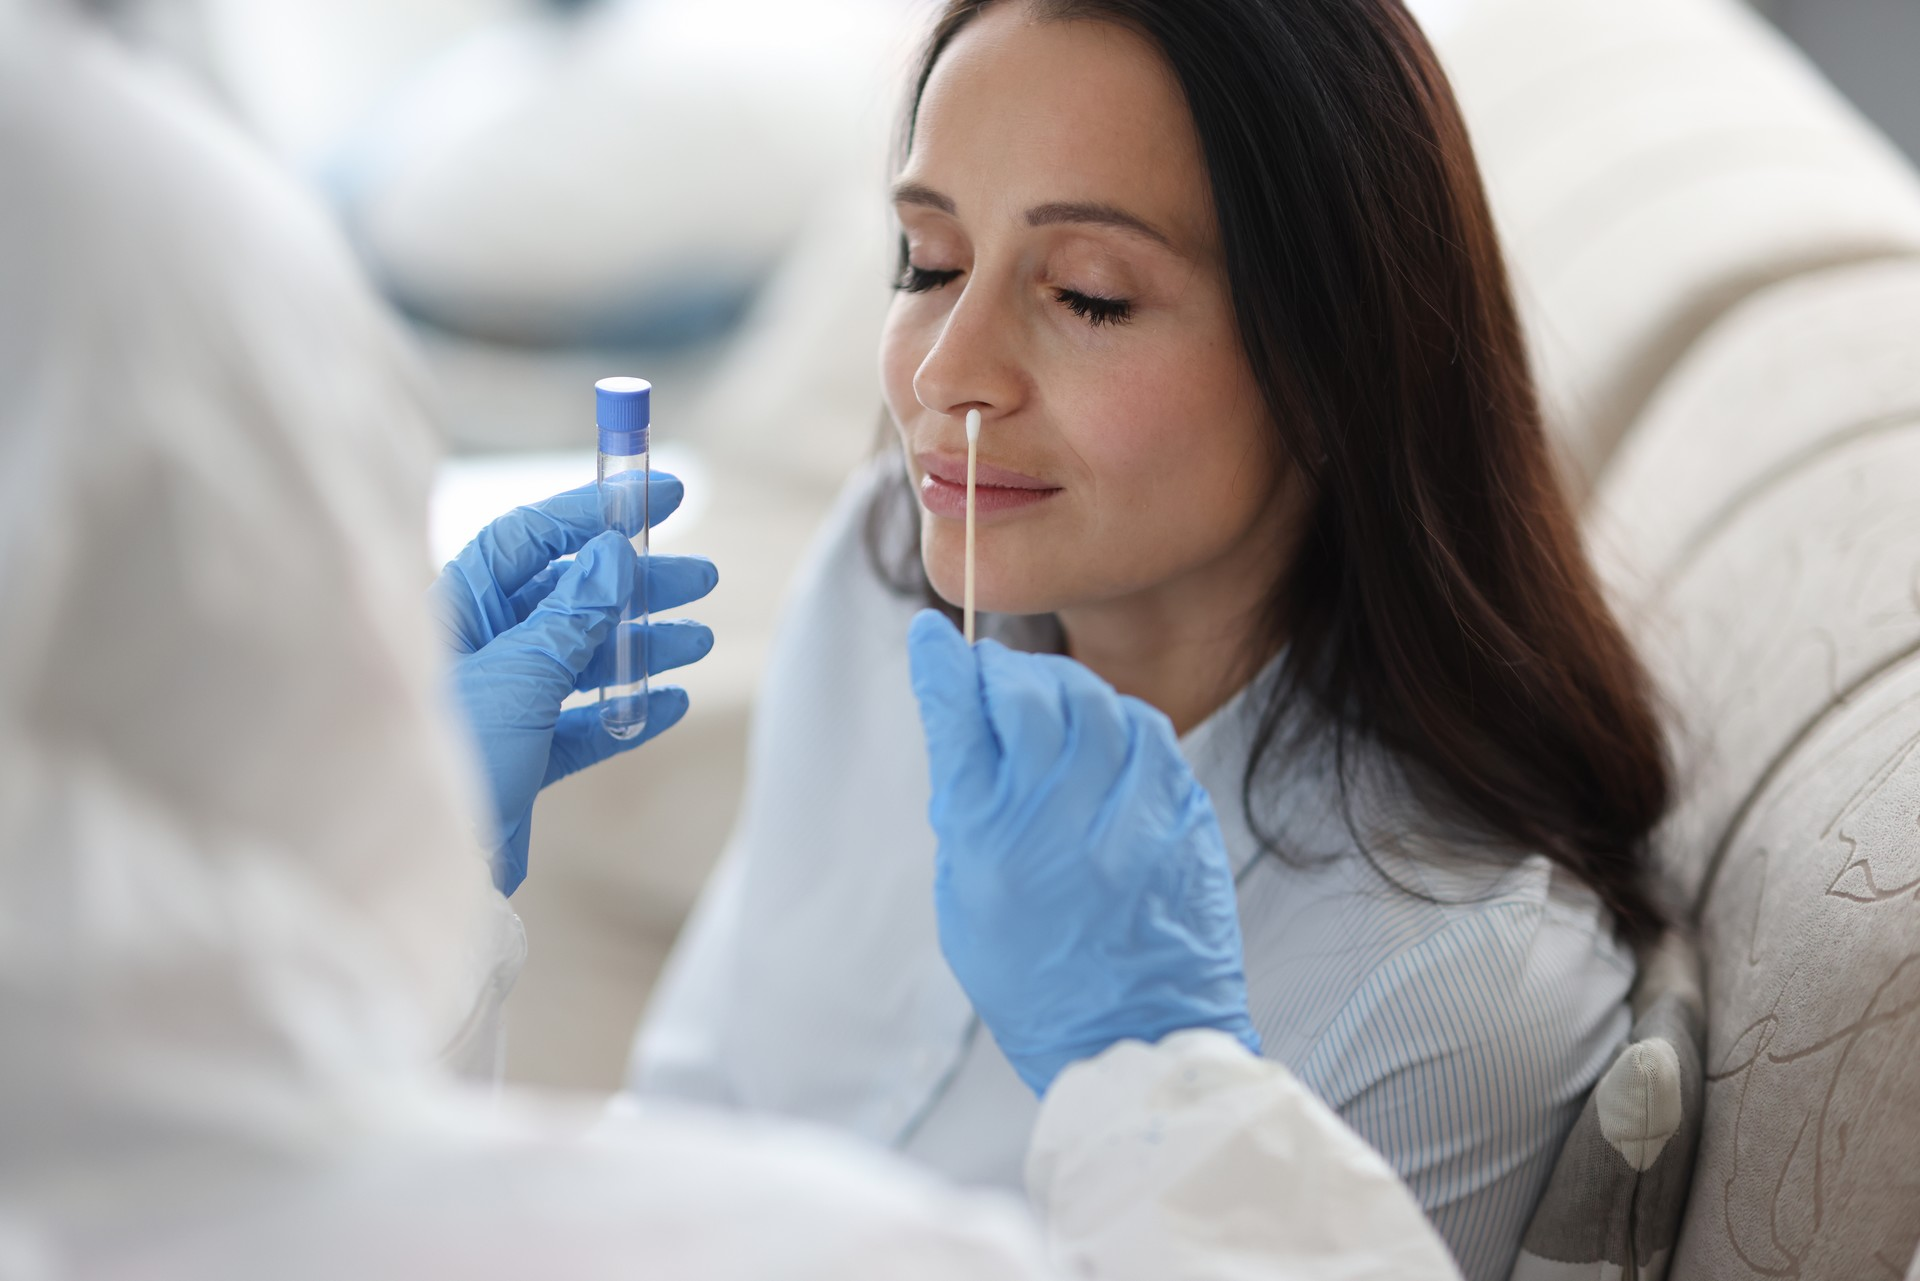without_mask: (897, 30, 1286, 629)
